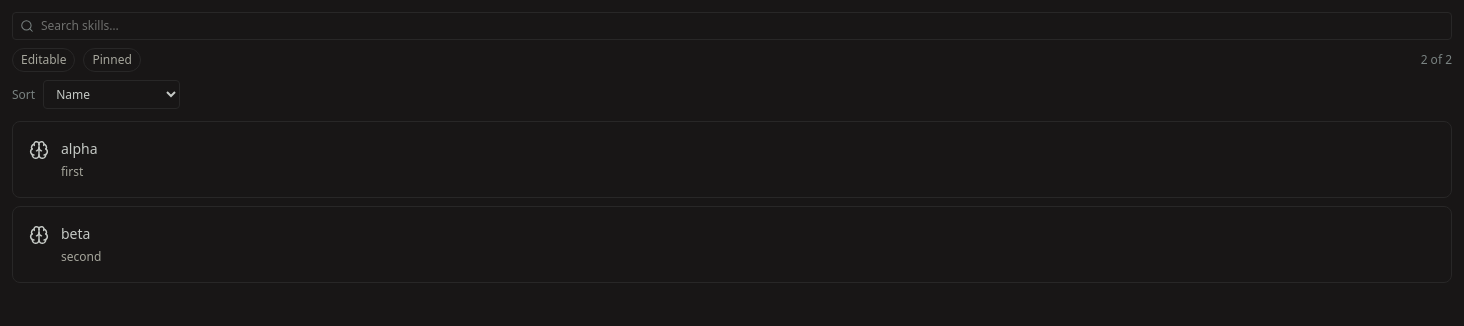
SkillList — the auto-improve lock › shows the flag on the row being pointed at, not on all of them
Step 1. Hover over the option "alpha first" → [79, 148], box [12,121,1452,198]
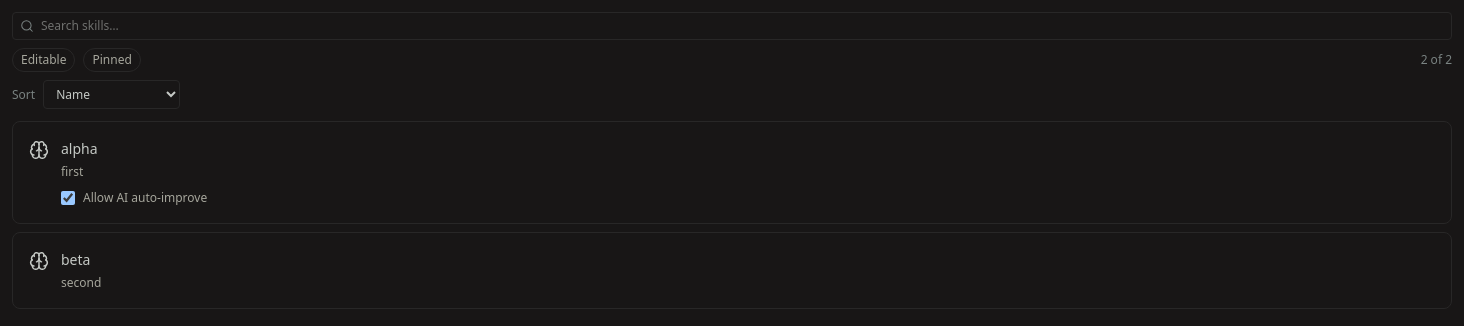
Now the number of checkboxes with test id "skill-auto-improve-toggle" is 1, box [61,191,75,205]
